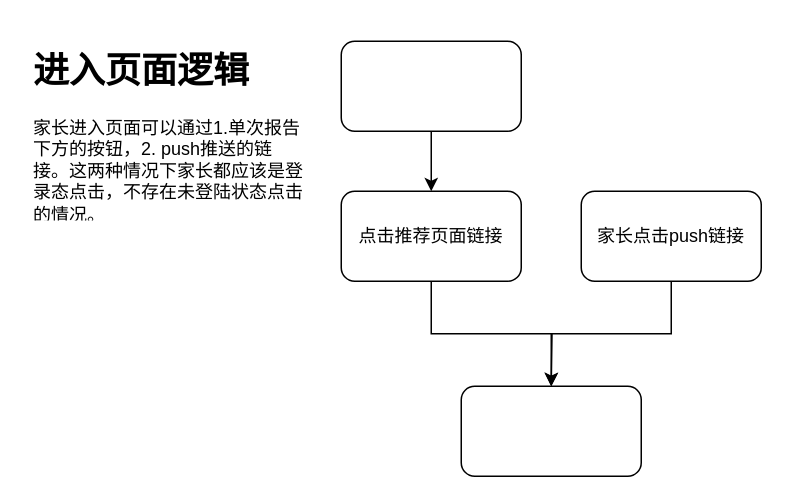
This 788x503 diagram has some shape labels left out. The centre of each missing label's shape, as x and y in pixels:
"家长浏览数学单次测评报告" belongs at [430,85].
"推荐页面" belongs at [550,430].
